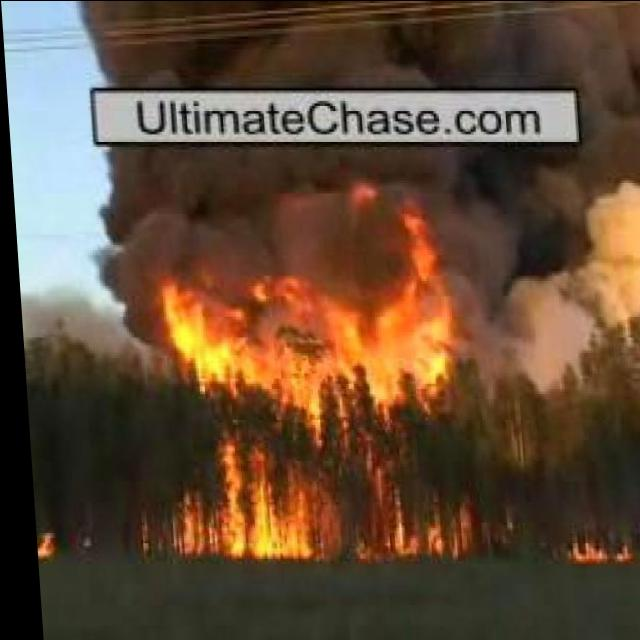Fire: (153, 258, 464, 556), (553, 537, 632, 564), (27, 519, 47, 567)
